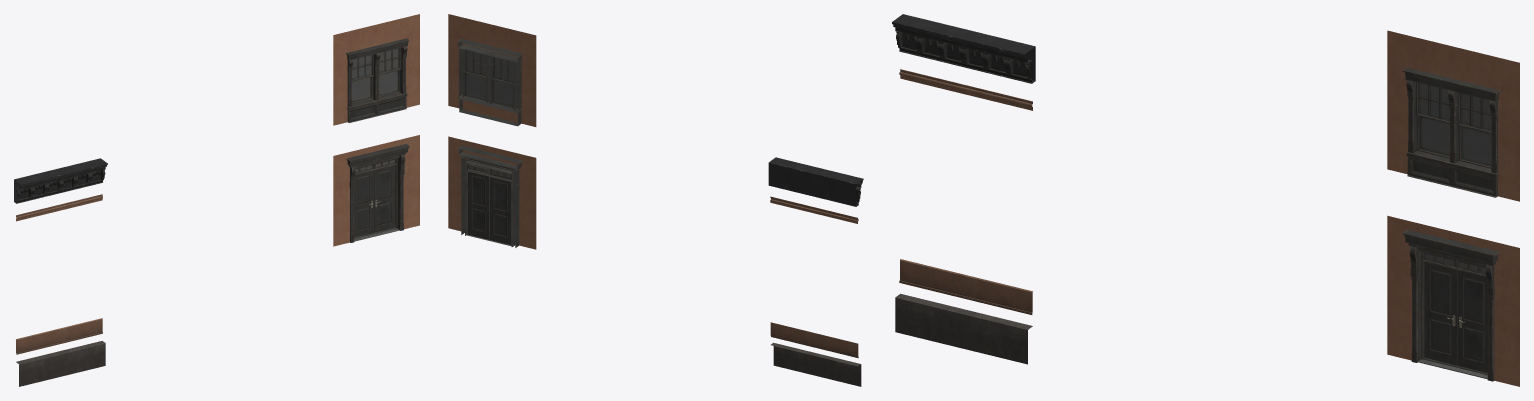
The model's file is modular_urban_apartments_facade_1k.glb.
3 renders of one model, left to right at view 1: azimuth 30°, elevation 25°; view 2: azimuth 150°, elevation 25°; view 3: azimuth 330°, elevation 25°, orthographic. The views are drawn at different scales.
Visible parts, largest first — view 1: door_centered_large_01, window_centered_large_01, wall_window_centered_large_01, wall_door_centered_large_01, crown_standard_standard_01, base_standard_01, dado_standard_standard_01, cornice_standard_standard_01; view 2: door_centered_large_01, wall_window_centered_large_01, window_centered_large_01, wall_door_centered_large_01, crown_standard_standard_01, base_standard_01, dado_standard_standard_01, cornice_standard_standard_01; view 3: door_centered_large_01, window_centered_large_01, wall_window_centered_large_01, wall_door_centered_large_01, crown_standard_standard_01, base_standard_01, dado_standard_standard_01, cornice_standard_standard_01.
Part boxes in pixels (x1,y1,x2,y2): door_centered_large_01: [346, 144, 409, 242]; window_centered_large_01: [346, 38, 409, 122]; wall_window_centered_large_01: [333, 14, 419, 125]; wall_door_centered_large_01: [333, 135, 419, 246]; crown_standard_standard_01: [14, 158, 107, 203]; base_standard_01: [16, 341, 105, 386]; dado_standard_standard_01: [16, 318, 102, 354]; cornice_standard_standard_01: [16, 194, 102, 221]; door_centered_large_01: [458, 145, 522, 247]; wall_window_centered_large_01: [448, 14, 536, 126]; window_centered_large_01: [457, 38, 523, 126]; wall_door_centered_large_01: [448, 136, 536, 249]; crown_standard_standard_01: [768, 157, 863, 206]; base_standard_01: [771, 342, 861, 386]; dado_standard_standard_01: [770, 322, 858, 358]; cornice_standard_standard_01: [770, 196, 858, 223]; door_centered_large_01: [1402, 229, 1499, 381]; window_centered_large_01: [1403, 67, 1500, 197]; wall_window_centered_large_01: [1387, 30, 1519, 201]; wall_door_centered_large_01: [1387, 215, 1519, 386]; crown_standard_standard_01: [892, 14, 1035, 83]; base_standard_01: [895, 293, 1032, 364]; dado_standard_standard_01: [899, 259, 1032, 314]; cornice_standard_standard_01: [899, 69, 1032, 110].
Bounding box in the file's own units: 14 × 9 × 0.57.
5 materials, 5 textured.
